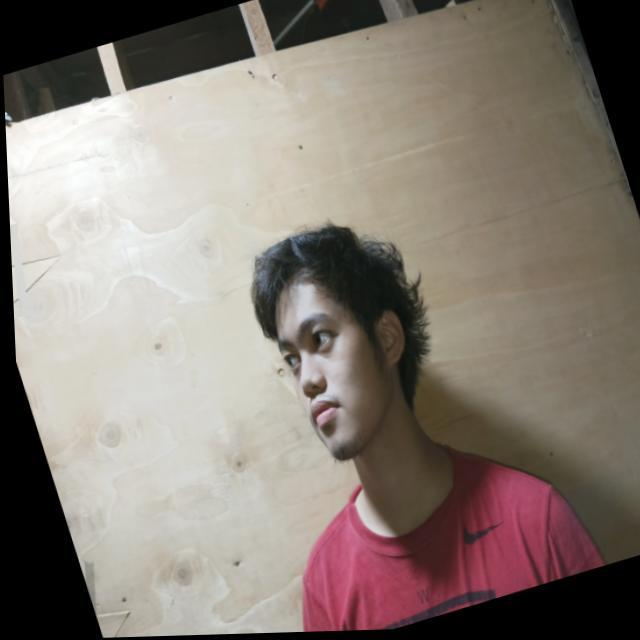Nonhelmet: (247, 219, 433, 463)
